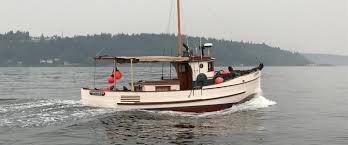boat: (79, 1, 264, 115)
